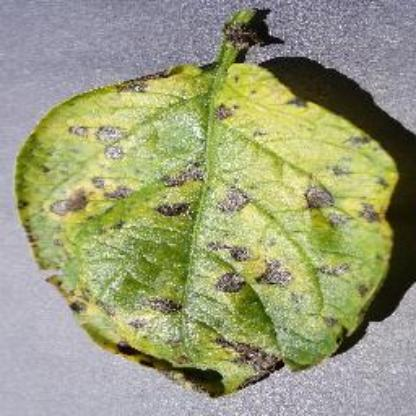Early-Blight: (13, 16, 395, 394)
